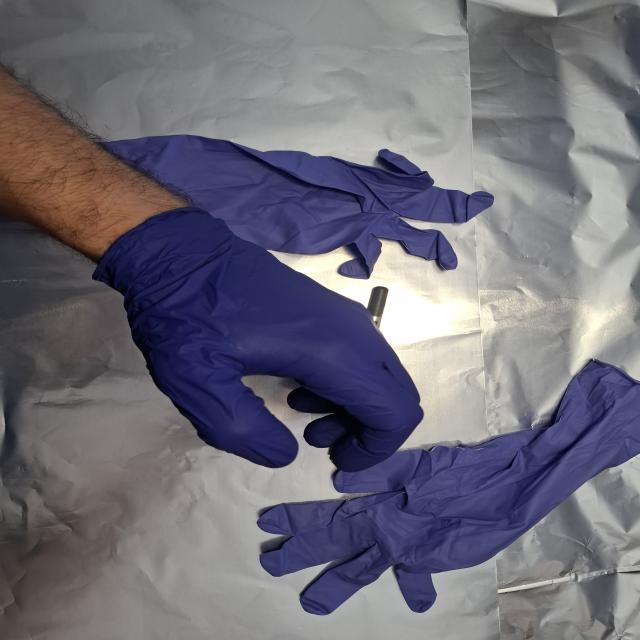glove_on: (99, 206, 429, 475)
